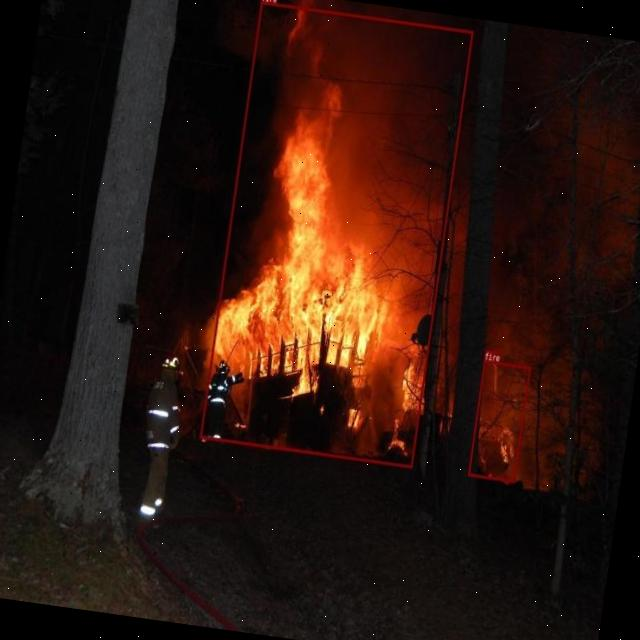fire: (200, 1, 473, 468), (468, 360, 530, 482)
